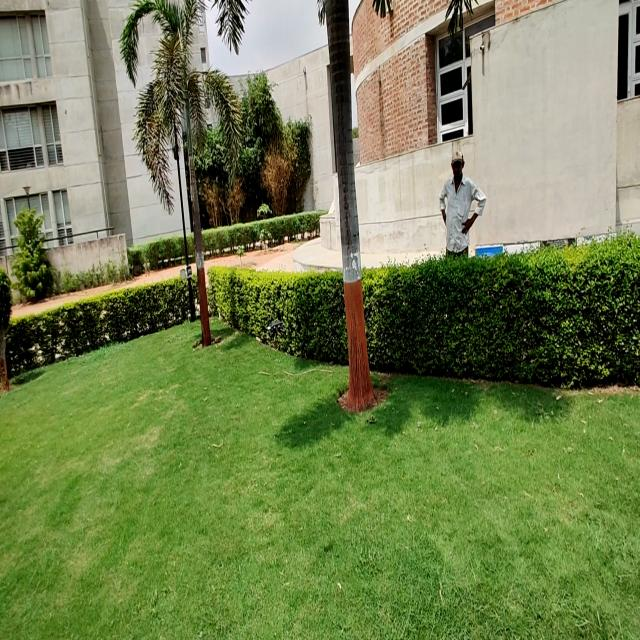drone: (250, 310, 294, 357)
